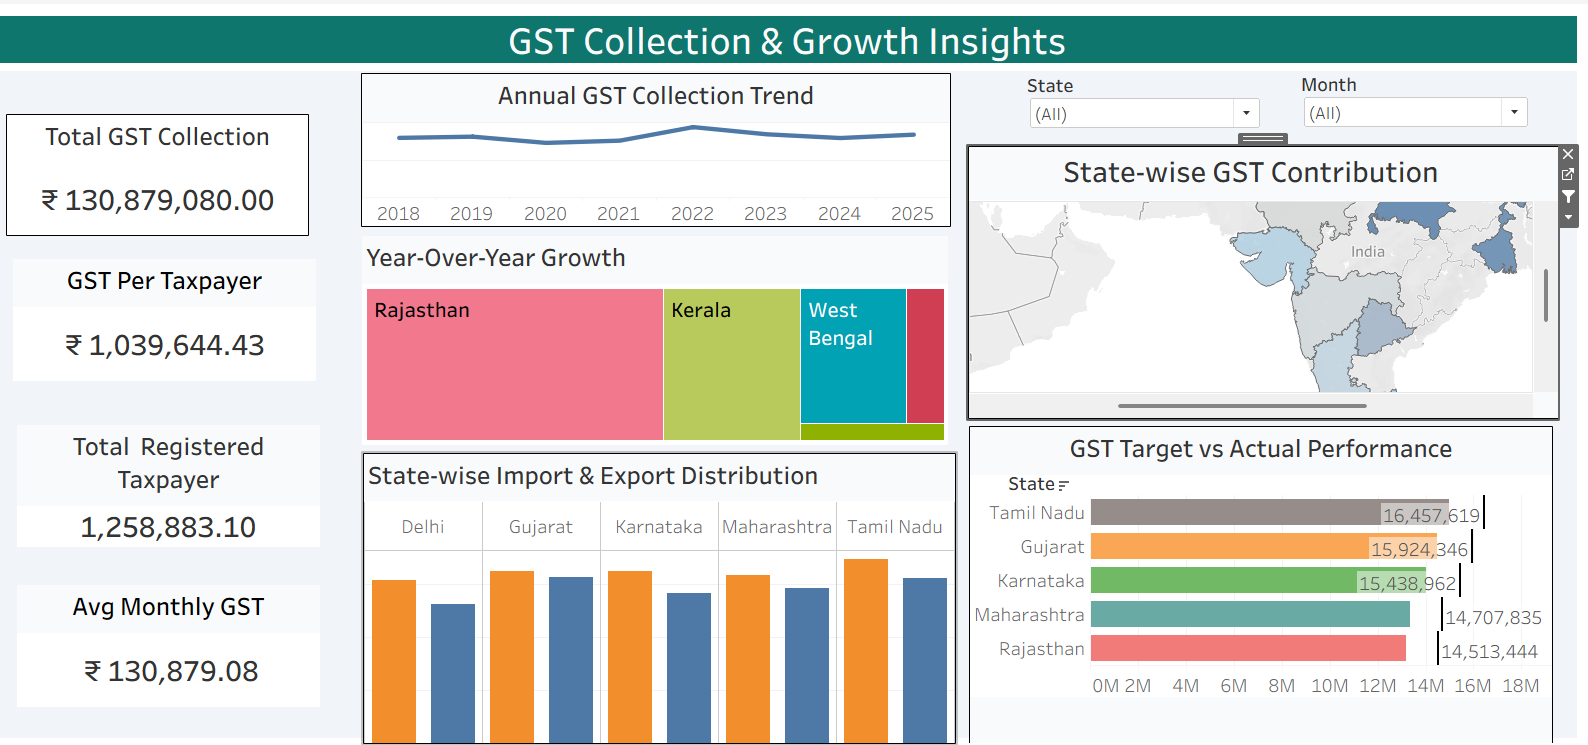

The page's visual inventory and layout, read from the dashboard file:
{"tool":"tableau","page":{"name":"Dashboard 1","canvas":[1000,1000],"units":"permille","ordinal":0},"visuals":[{"type":"title","box":[5,10.7,990,73.7]},{"type":"blank","box":[5,84.4,990,904.8]},{"type":"filter","title":"Sheet 1","param":"[federated.0zzuh3a1ofu35w14y1ttt1tggn4h].[none:Calculation_596164043213365250:nk","box":[820.2,90.5,143.2,75.8]},{"type":"filter","title":"Sheet 1","param":"[federated.0zzuh3a1ofu35w14y1ttt1tggn4h].[none:State:nk]","box":[649.7,91.7,146.9,75.8]},{"type":"worksheet","title":"Sheet 6","mark":"Line","rows":["GST_Collection_Cr"],"cols":["Year"],"box":[234.4,92.5,367.8,206.4]},{"type":"worksheet","title":"Sheet 1","mark":"Automatic","box":[13,147.9,188.7,163.8]},{"type":"worksheet","title":"Sheet 7","mark":"Multipolygon","box":[612.6,190.7,368.2,365.5]},{"type":"worksheet","title":"Sheet 10","mark":"Automatic","box":[235,311,365.3,280.2]},{"type":"worksheet","title":"Sheet 4","mark":"Automatic","box":[17.6,342.3,188.7,163.8]},{"type":"worksheet","title":"Sheet 3","mark":"Automatic","box":[19.9,564.8,188.7,163.8]},{"type":"worksheet","title":"Sheet 8","mark":"Bar","rows":["State"],"cols":["GST_Collection_Cr"],"box":[613.5,565.7,364.1,426.3]},{"type":"worksheet","title":"Sheet 11","mark":"Automatic","cols":["State"],"box":[235.7,601.9,369.7,391.4]},{"type":"worksheet","title":"Sheet 2","mark":"Automatic","box":[19.9,778.7,188.7,163.8]}]}

Visuals, with their boxes on the dashboard's canvas, which has no fixed pixel size, in thousandths of its width and height (x1, y1, x2, y2). These are canvas units, not pixel positions in the 1588x745 screenshot, which may show the page scaled, cropped or inside an application window:
title: crop(5, 11, 995, 84)
blank: crop(5, 84, 995, 989)
"Sheet 1" filter: crop(820, 90, 963, 166)
"Sheet 1" filter: crop(650, 92, 797, 168)
"Sheet 6" worksheet (Line marks): crop(234, 92, 602, 299)
"Sheet 1" worksheet: crop(13, 148, 202, 312)
"Sheet 7" worksheet (Multipolygon marks): crop(613, 191, 981, 556)
"Sheet 10" worksheet: crop(235, 311, 600, 591)
"Sheet 4" worksheet: crop(18, 342, 206, 506)
"Sheet 3" worksheet: crop(20, 565, 209, 729)
"Sheet 8" worksheet (Bar marks): crop(614, 566, 978, 992)
"Sheet 11" worksheet: crop(236, 602, 605, 993)
"Sheet 2" worksheet: crop(20, 779, 209, 942)
